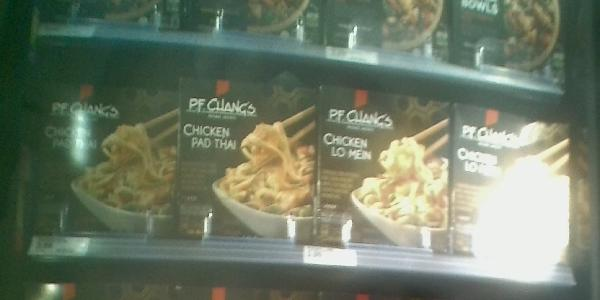icecream: (23, 59, 182, 237), (317, 84, 453, 252), (184, 77, 316, 241), (454, 101, 570, 270)
